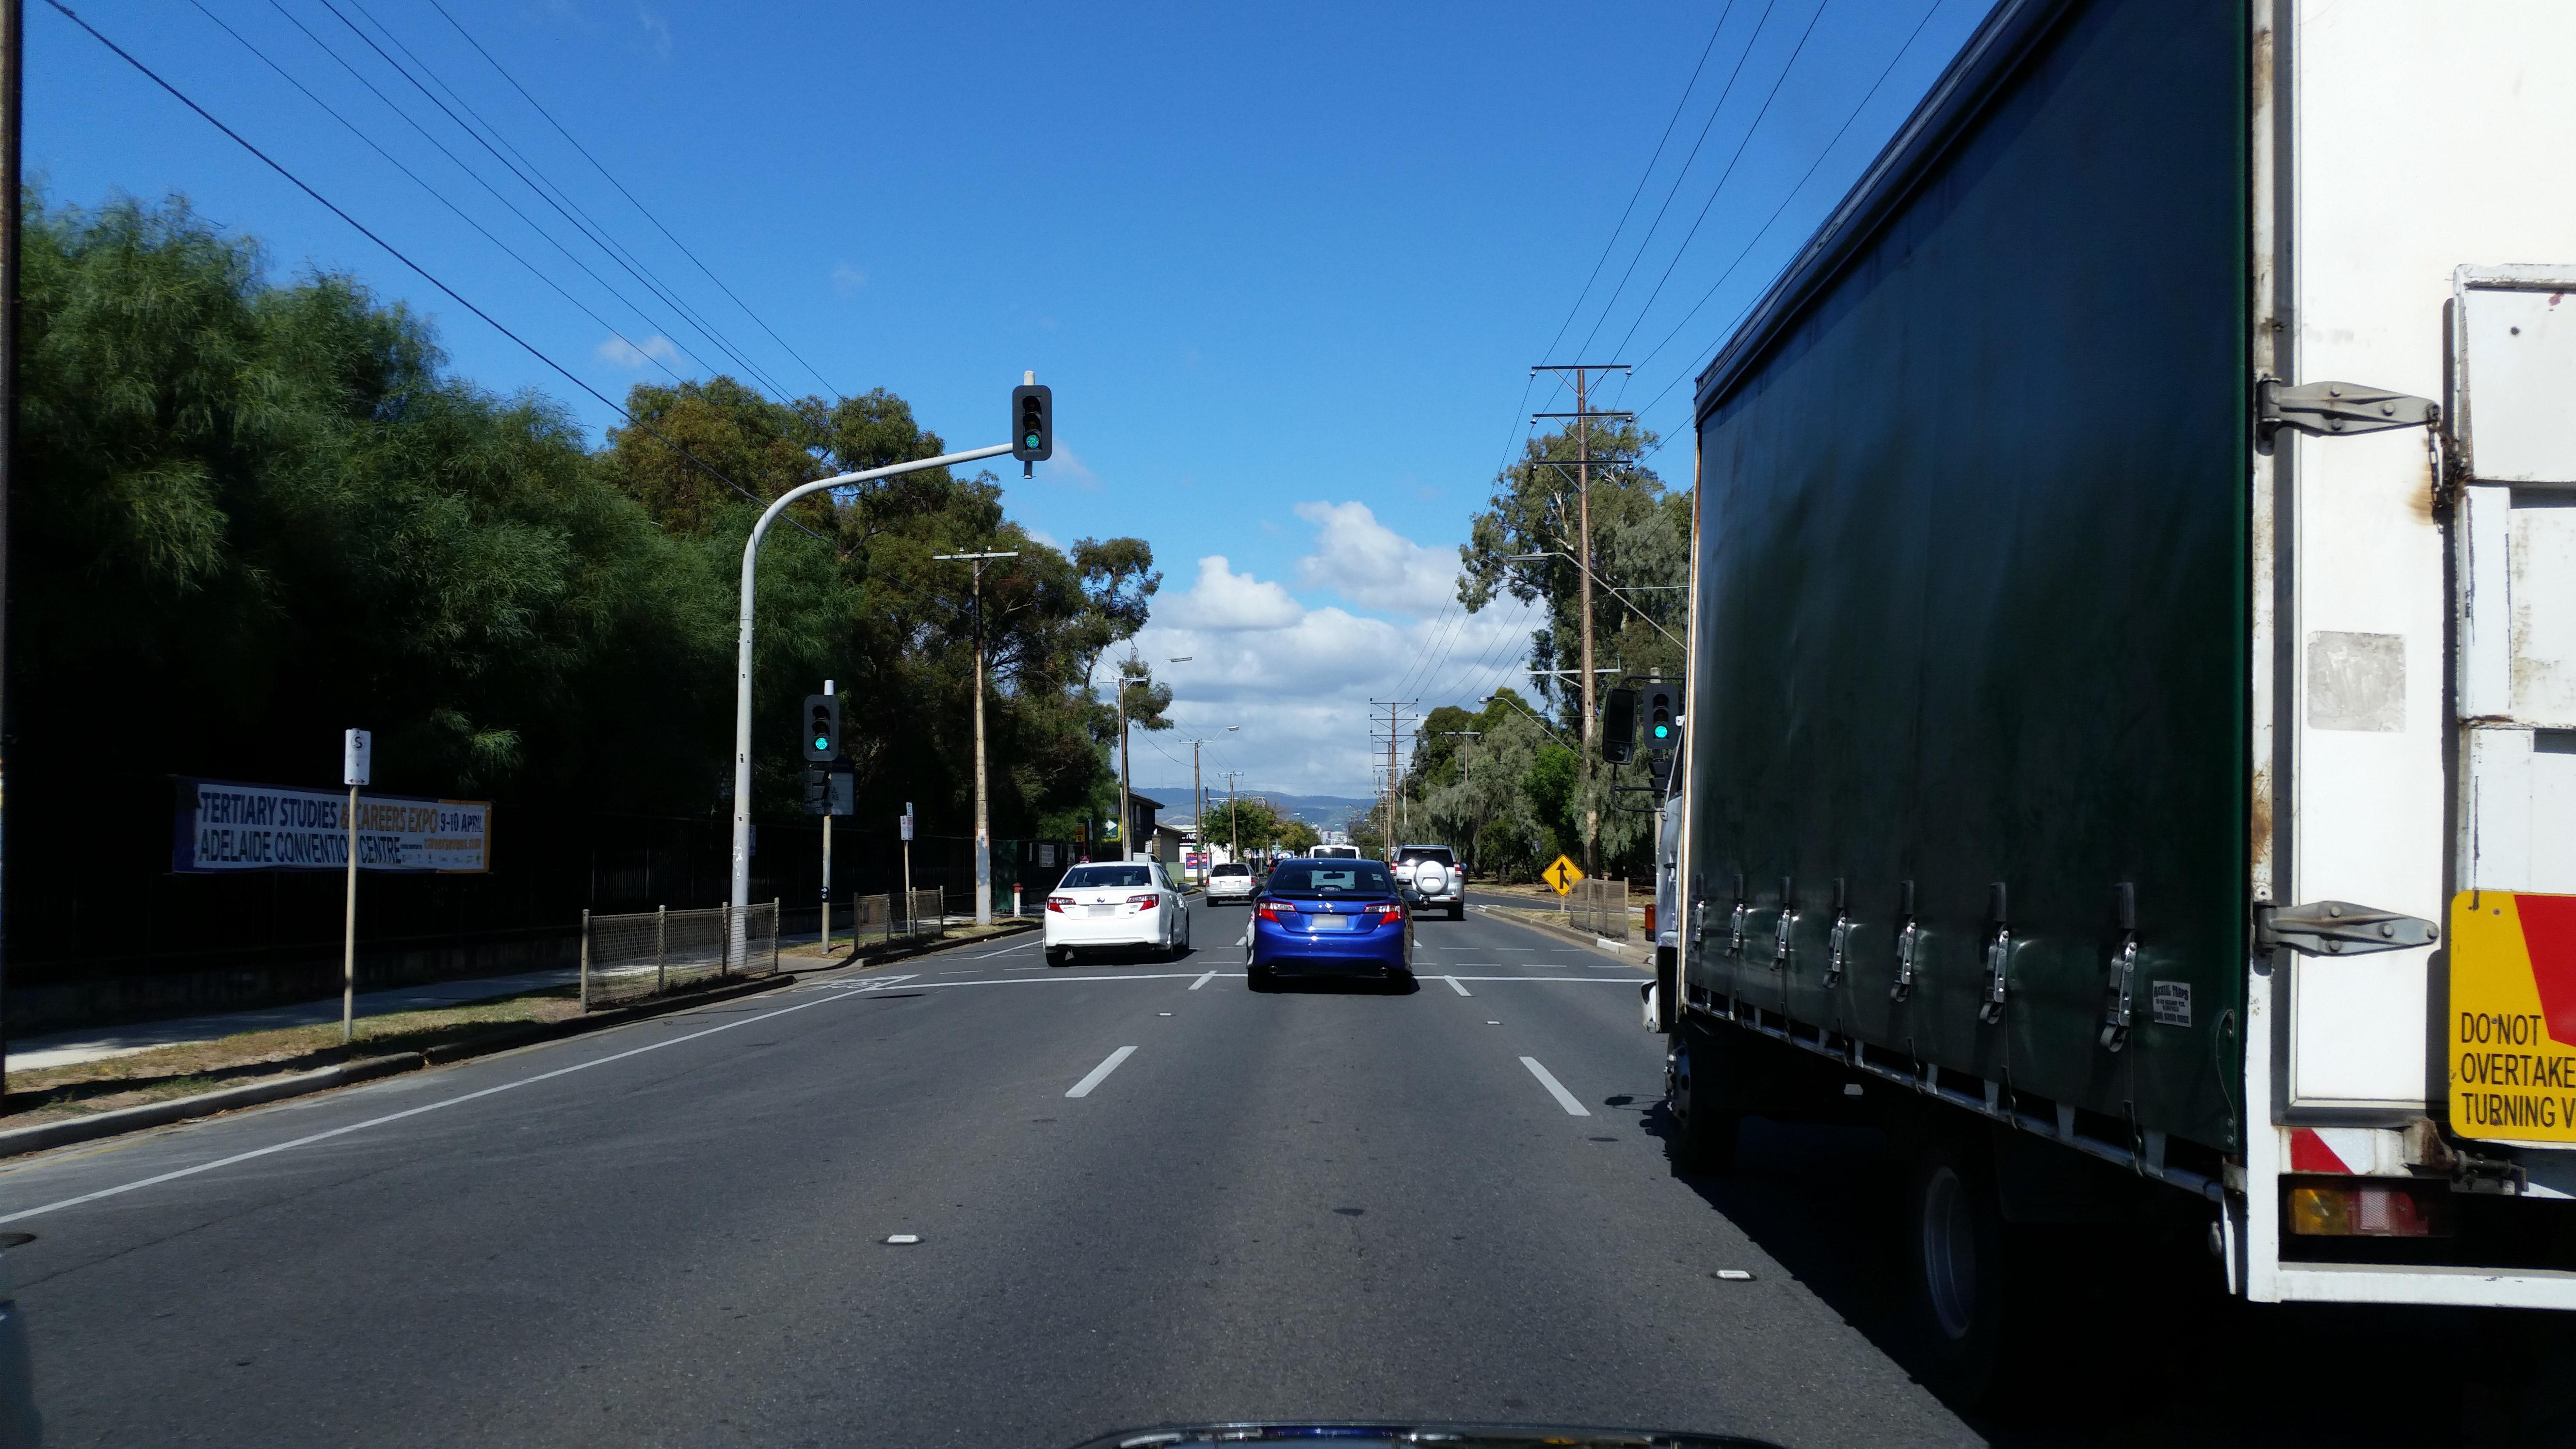vinyl banner: (177, 743, 525, 897)
